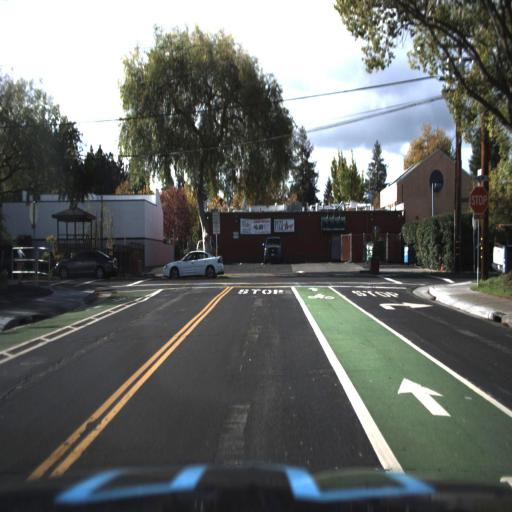car: (49, 239, 125, 285), (161, 243, 226, 282), (257, 230, 288, 267), (193, 236, 218, 258)
